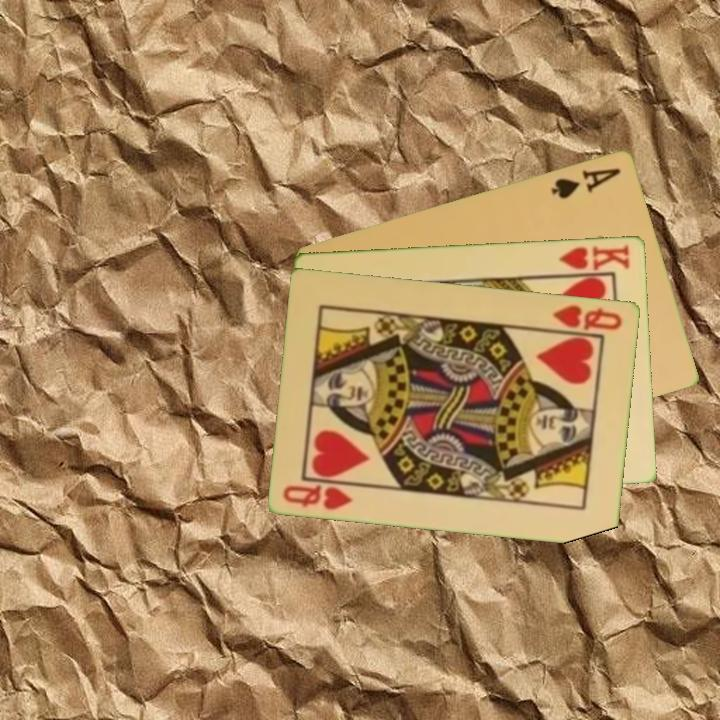As: (548, 164, 624, 201)
Kh: (552, 240, 633, 277)
Qh: (280, 480, 356, 513), (550, 301, 625, 333)
